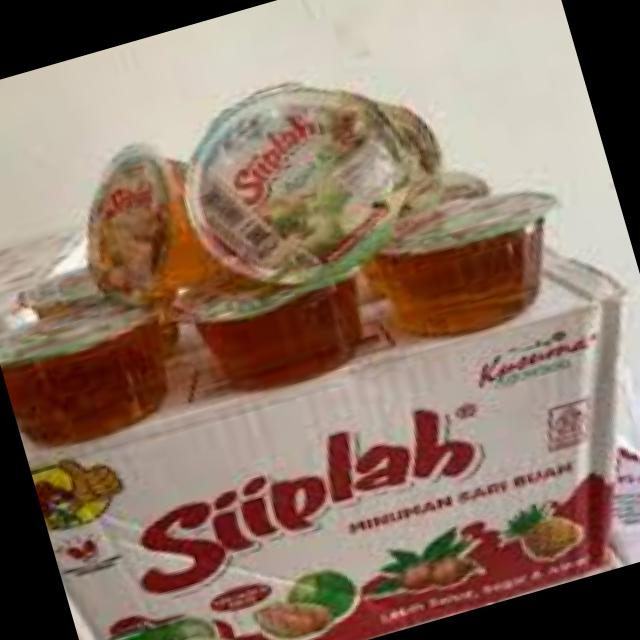GelasPlastik: (0, 166, 587, 455), (59, 50, 514, 338)
